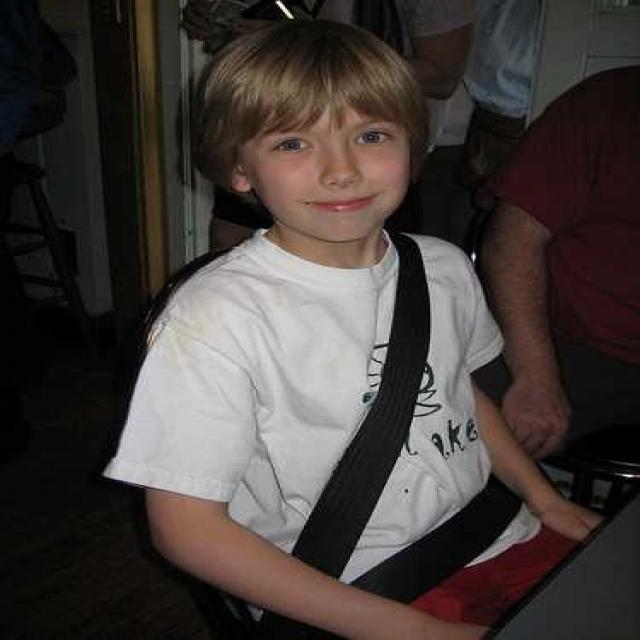seatbelt: (273, 240, 468, 604)
